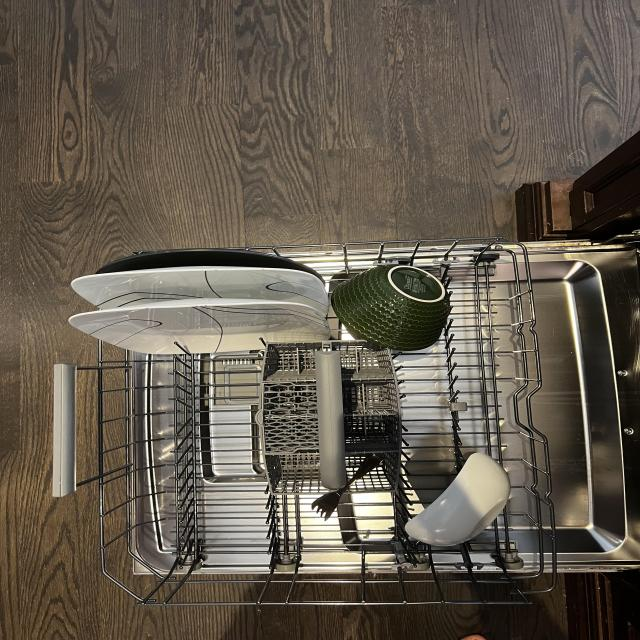Bowl: (403, 449, 512, 546), (332, 263, 452, 350)
Fork: (307, 453, 383, 523)
Plate: (65, 298, 335, 356)
